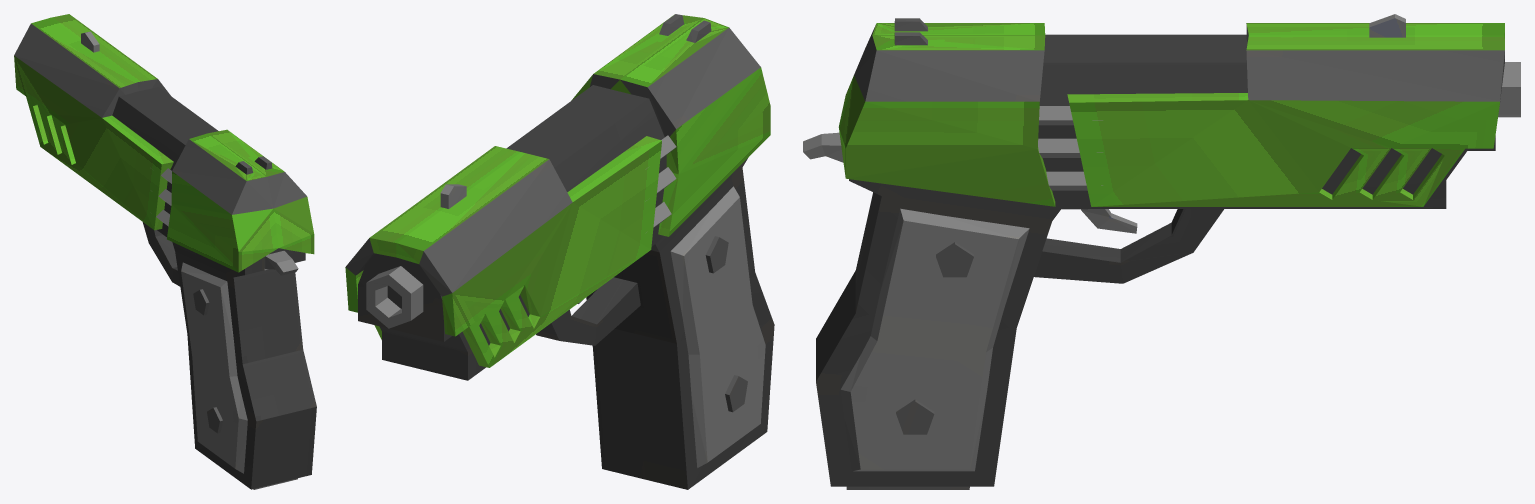
File: pistol_3.glb
The picture shows the model from 3 angles, left to right: view 1: azimuth 30°, elevation 25°; view 2: azimuth 150°, elevation 25°; view 3: azimuth 270°, elevation 25°; orthographic projection. The views are drawn at different scales.
Visible parts, largest first — view 1: pistol_3; view 2: pistol_3; view 3: pistol_3.
Boxes of the visible parts, x1=… form: pistol_3: x1=14, y1=14, x2=316, y2=489; pistol_3: x1=345, y1=14, x2=774, y2=489; pistol_3: x1=803, y1=14, x2=1520, y2=489.
Bounding box in the file's own units: 0.0525 × 0.2018 × 0.2864.
Materials: 1 (1 with a texture image).
